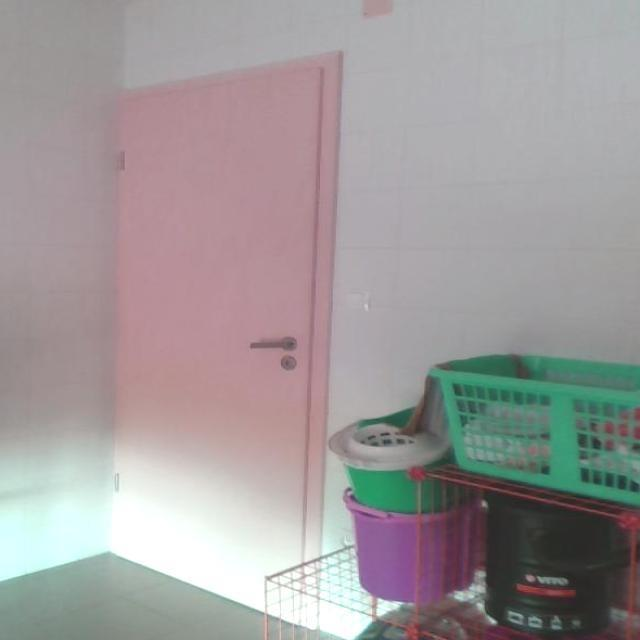door: (110, 51, 338, 620)
